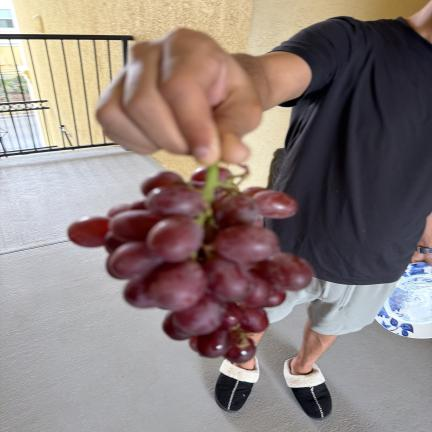grape_cluster: (68, 165, 313, 366)
